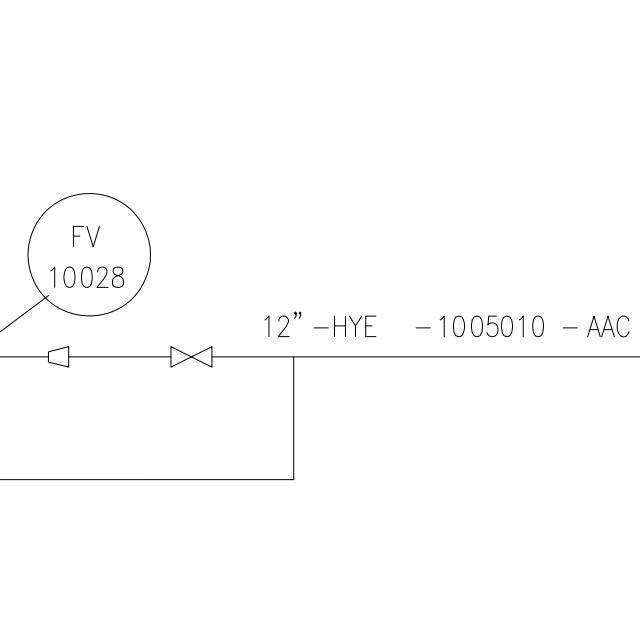GV: (165, 342, 216, 373)
SP: (43, 343, 73, 369)
